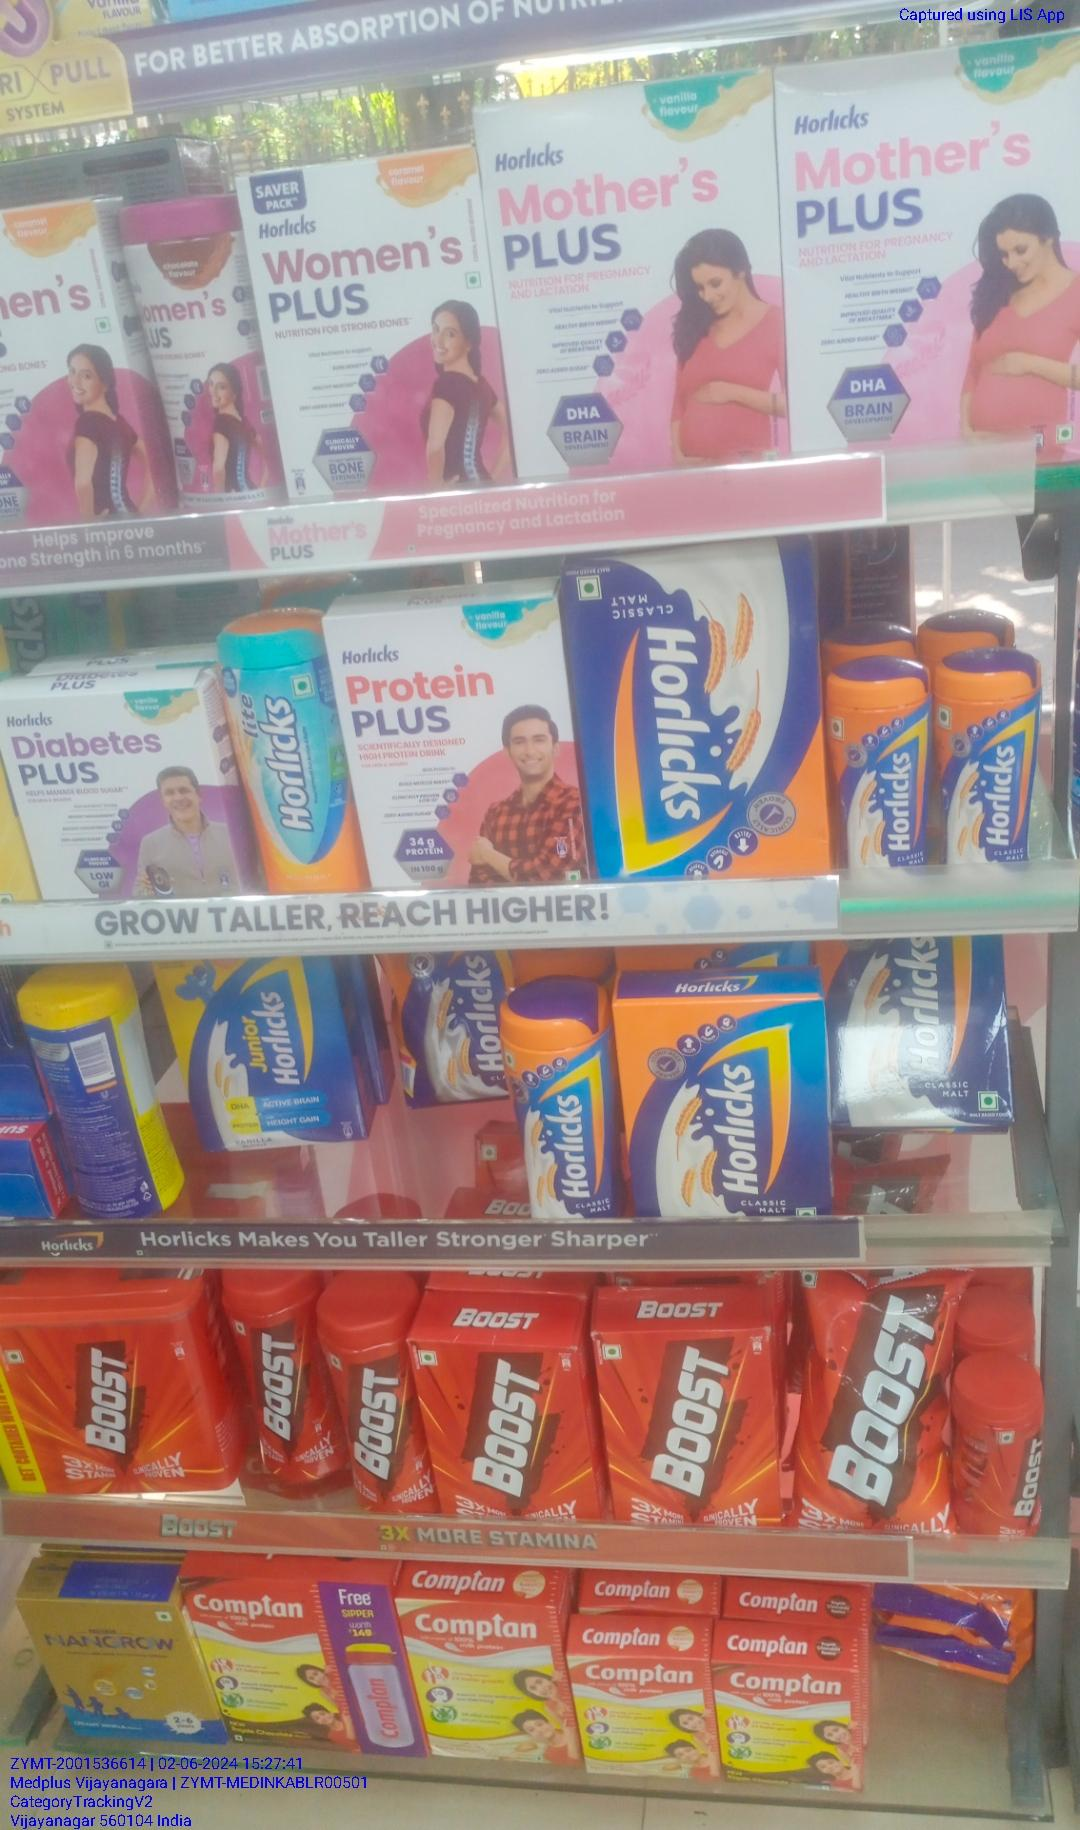COMPLAN_KESAR_BADAM_200_GMS_PACK: (582, 1650, 714, 1773)
HORLICK_CLASSIC_MALT_200_G_JAR: (936, 654, 1036, 869), (829, 672, 926, 874)
HORLICK_CLASSIC_MALT_500_G_JAR: (508, 997, 615, 1218)
HORLICK_CLASSIC_MALT_500_G_PACK: (621, 996, 828, 1218)
